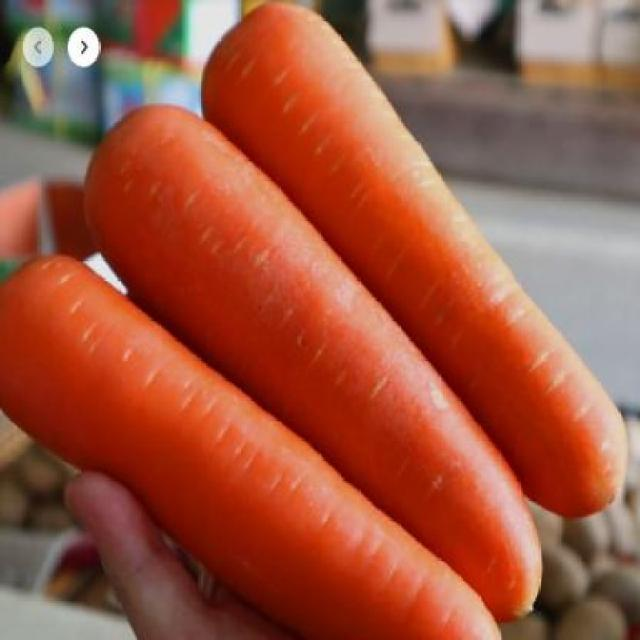carrot: (72, 104, 550, 618), (200, 0, 628, 520), (5, 251, 508, 640)
